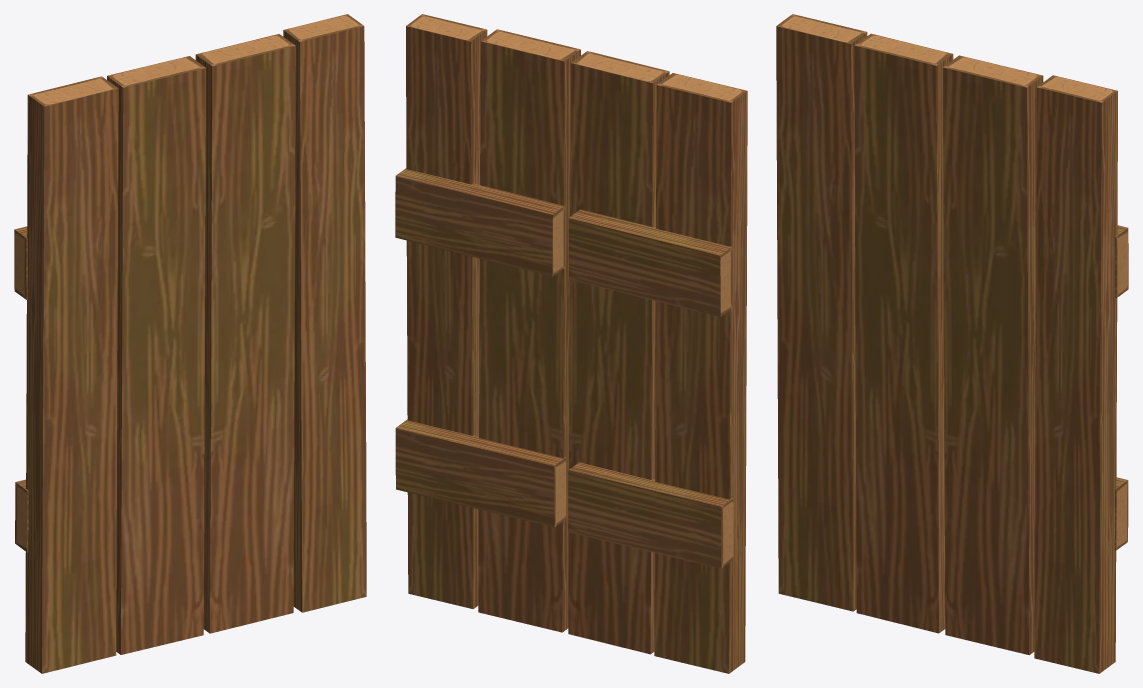
File: windowshutters_thin_flat_closed.glb
3 views of the same model, side by side, from view 1: azimuth 30°, elevation 25°; view 2: azimuth 150°, elevation 25°; view 3: azimuth 330°, elevation 25° (orthographic).
Bounding box in the file's own units: 0.8517 × 1.42 × 0.1358.
Materials: 1 (1 with a texture image).
